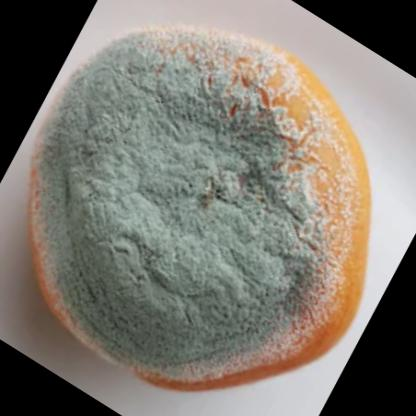rotten: (33, 28, 371, 395)
